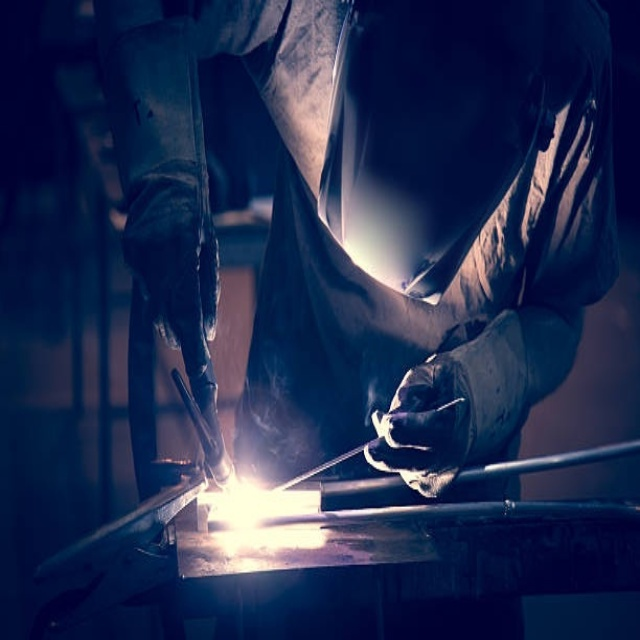Guantes: (369, 307, 565, 498), (122, 166, 223, 383)
Mascara: (317, 0, 546, 303)
